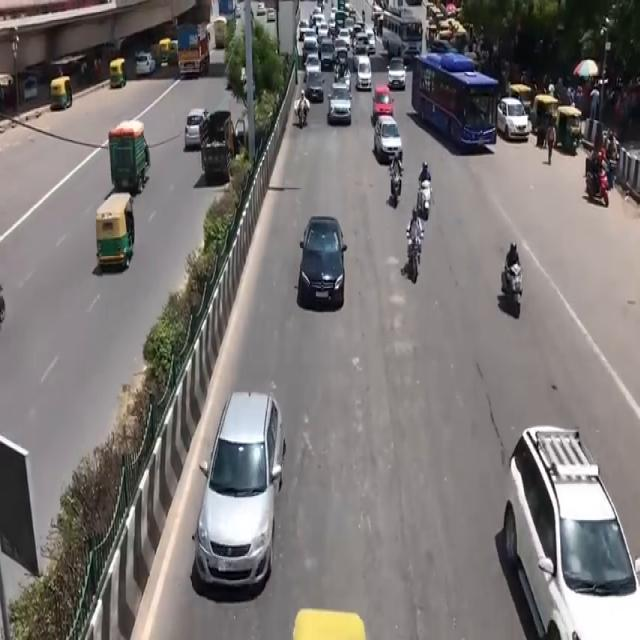BUS: (410, 49, 498, 154)
MOTORCYCLE: (504, 264, 523, 321), (408, 230, 424, 284), (418, 179, 434, 220), (390, 170, 402, 209)
